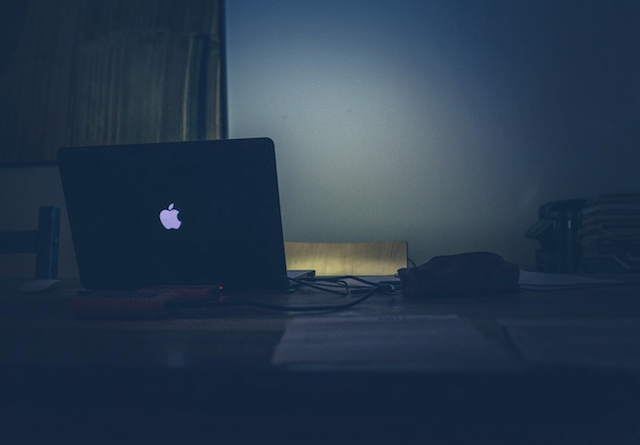computer: (48, 135, 322, 296)
